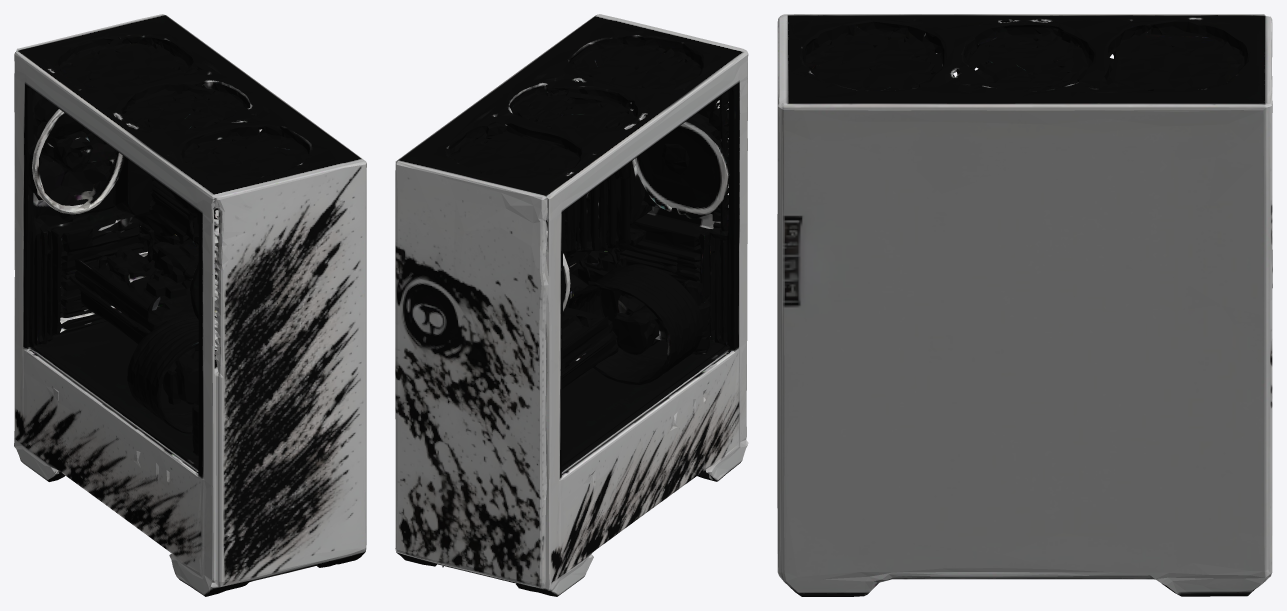
The model's file is zero-pc.glb.
The picture shows the model from 3 angles, left to right: view 1: azimuth 30°, elevation 25°; view 2: azimuth 150°, elevation 25°; view 3: azimuth 270°, elevation 25°; orthographic projection. The views are drawn at different scales.
Parts seen in each view (by area): view 1: textured_mesh.obj; view 2: textured_mesh.obj; view 3: textured_mesh.obj.
Boxes of the visible parts, x1,y1,x2,y2 form: textured_mesh.obj: (14, 14, 366, 596); textured_mesh.obj: (395, 14, 748, 596); textured_mesh.obj: (777, 14, 1272, 596).
Size of the model in its own units: 0.8177 by 1.97 by 1.79.
1 material, 1 textured.
